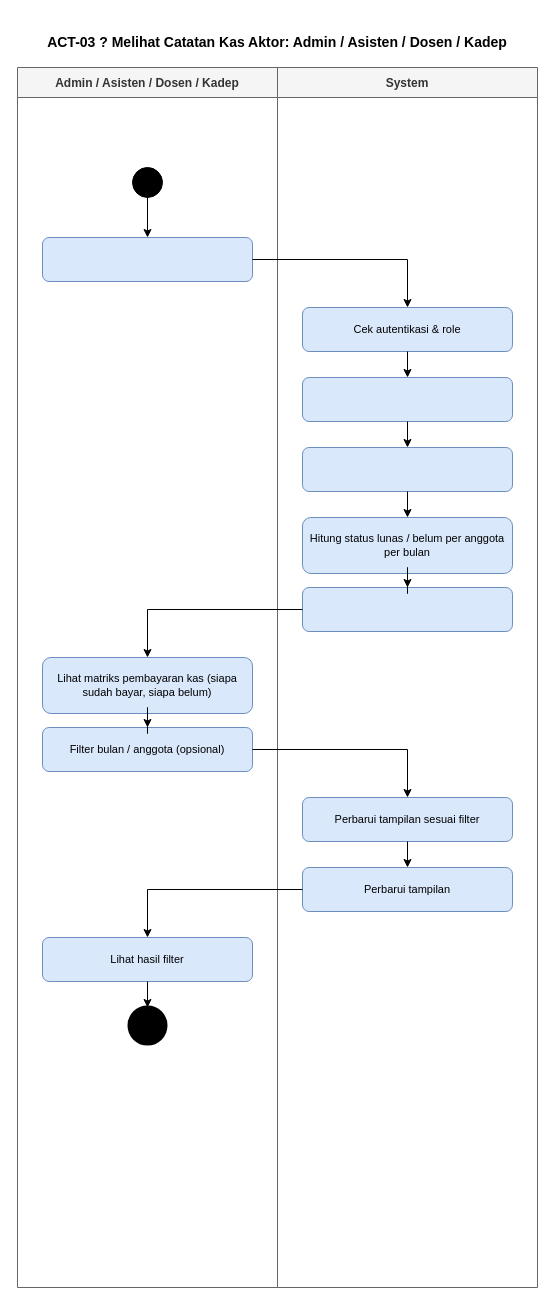
This 555x1305 diagram has some shape labels left out. Each missing label, with the centre of its shape:
Ambil data kepengurusan lab aktif: the point at 407,399
Ambil data matriks pembayaran kas: the point at 407,469
Buka menu Catatan Kas: the point at 147,259
Tampilkan matriks catatan kas: the point at 407,609
